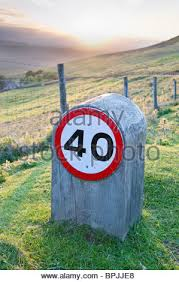Speed_limit_40km: (54, 106, 126, 183)
